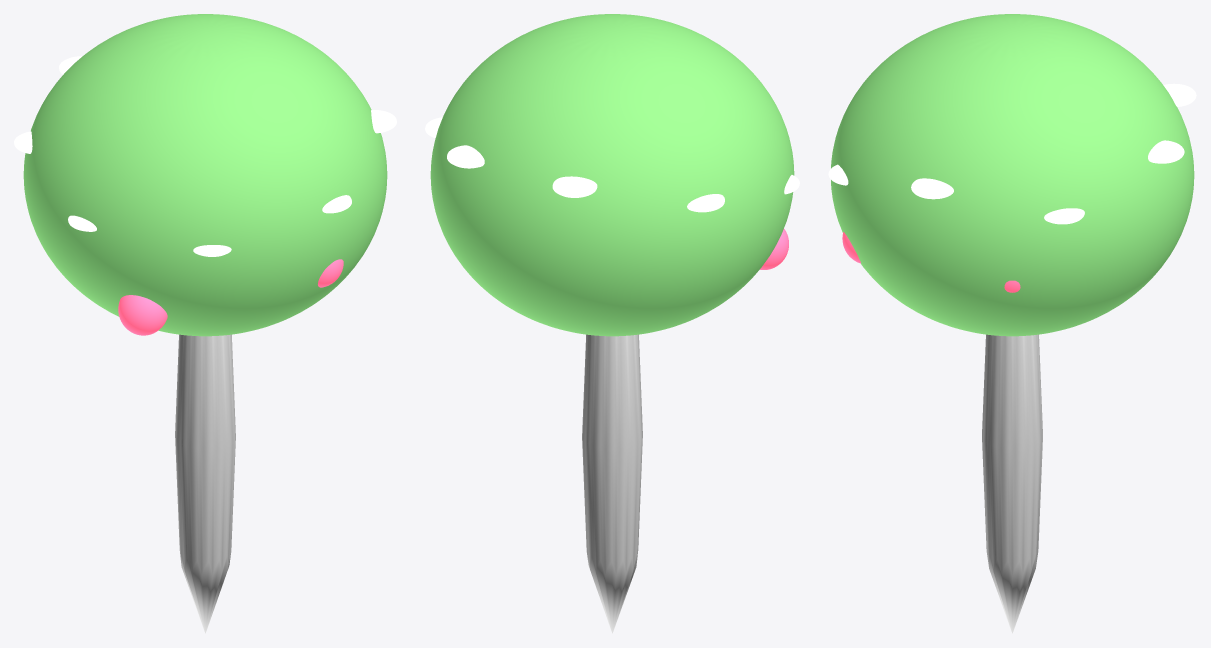
The model's file is farm_tree_cherry_v3.glb.
3 views of the same model, side by side, from view 1: azimuth 30°, elevation 25°; view 2: azimuth 150°, elevation 25°; view 3: azimuth 270°, elevation 25° (orthographic).
Parts seen in each view (by area): view 1: canopy.002, trunk.002, fruit_3.002; view 2: canopy.002, trunk.002, bl_2, bl_1, bl_3, fruit_3.002; view 3: canopy.002, trunk.002, bl_7, bl_1, bl_0, bl_2.
Boxes of the visible parts, x1,y1,x2,y2 form: canopy.002: (23, 14, 387, 336); trunk.002: (175, 334, 235, 633); fruit_3.002: (118, 295, 167, 335); canopy.002: (430, 14, 794, 336); trunk.002: (582, 334, 642, 633); bl_2: (552, 176, 597, 197); bl_1: (447, 145, 484, 168); bl_3: (687, 194, 724, 212); fruit_3.002: (760, 229, 788, 269); canopy.002: (831, 14, 1194, 336); trunk.002: (982, 334, 1042, 633); bl_7: (911, 178, 953, 199); bl_1: (1148, 140, 1184, 163); bl_0: (1044, 208, 1084, 224); bl_2: (1163, 83, 1196, 106).
Size of the model in its own units: 1.09 by 1.96 by 1.09.
